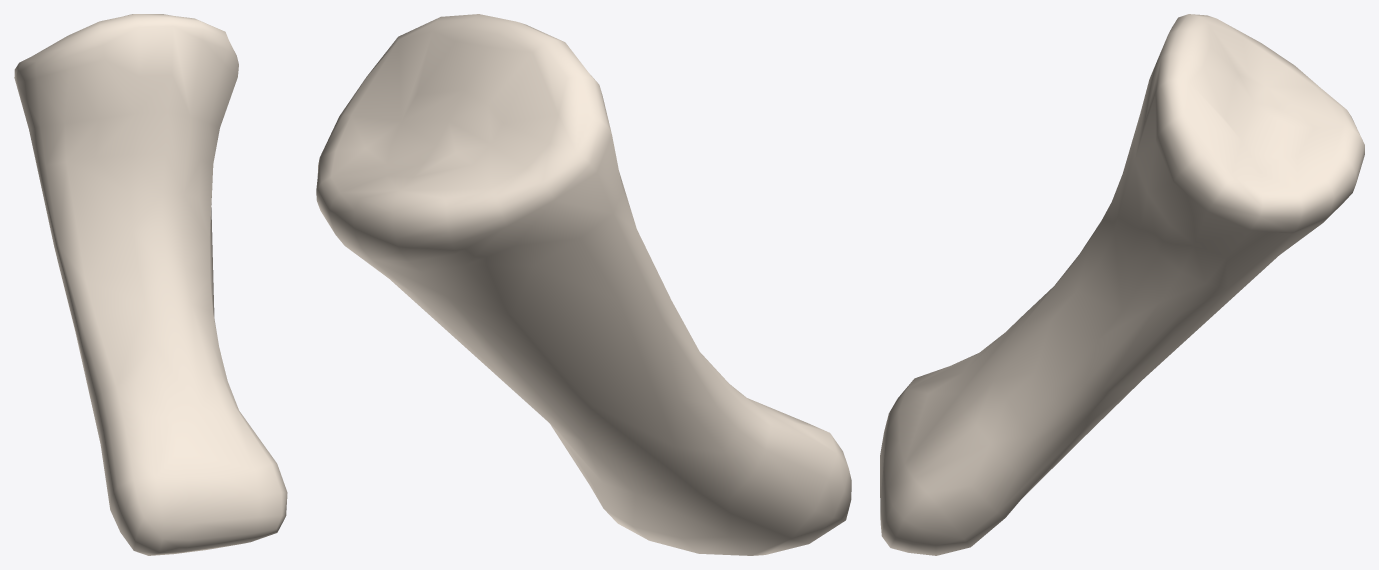
File: left_digit_5_middle.glb
3 views of the same model, side by side, from view 1: azimuth 30°, elevation 25°; view 2: azimuth 150°, elevation 25°; view 3: azimuth 270°, elevation 25° (orthographic). The views are drawn at different scales.
Parts seen in each view (by area): view 1: Middle phalanx of 5th finger.r; view 2: Middle phalanx of 5th finger.r; view 3: Middle phalanx of 5th finger.r.
Part boxes in pixels (x1,y1,x2,y2): Middle phalanx of 5th finger.r: [14, 14, 287, 555]; Middle phalanx of 5th finger.r: [316, 14, 851, 555]; Middle phalanx of 5th finger.r: [880, 14, 1364, 555].
Bounding box in the file's own units: 0.0107 × 0.0193 × 0.0161.
